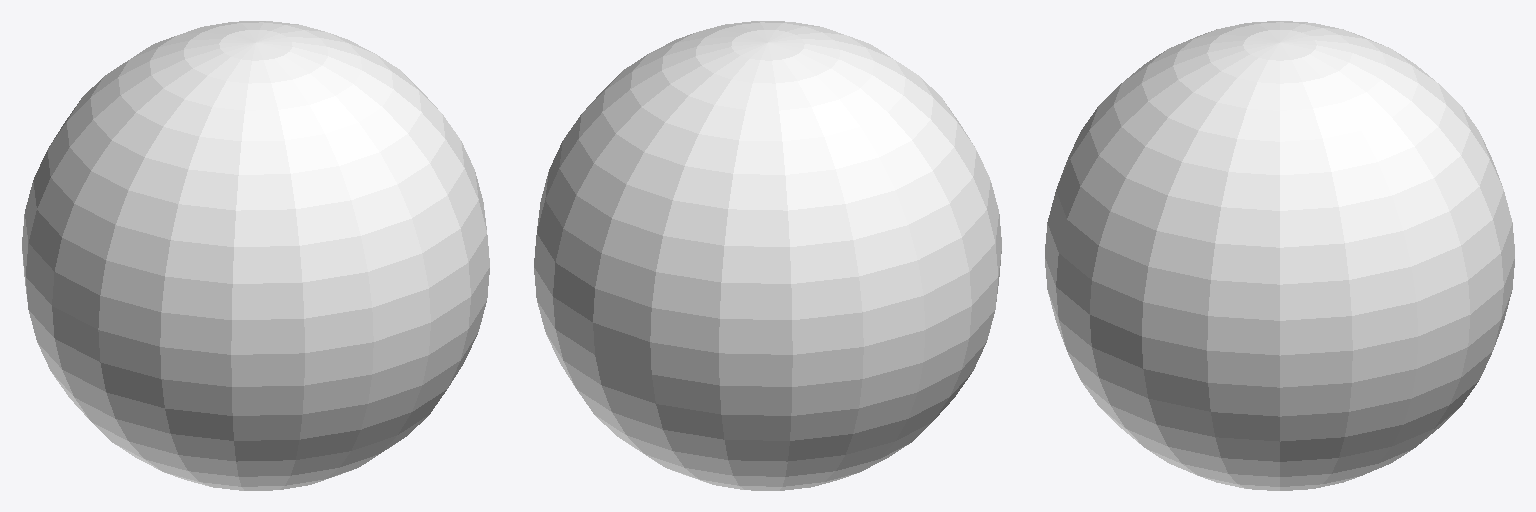
Rendered from sphere_mercury.obj.
The picture shows the model from 3 angles: view 1: azimuth 30°, elevation 25°; view 2: azimuth 150°, elevation 25°; view 3: azimuth 270°, elevation 25°; orthographic projection.
Bounding box in the file's own units: 2.01 × 2.01 × 2.01.